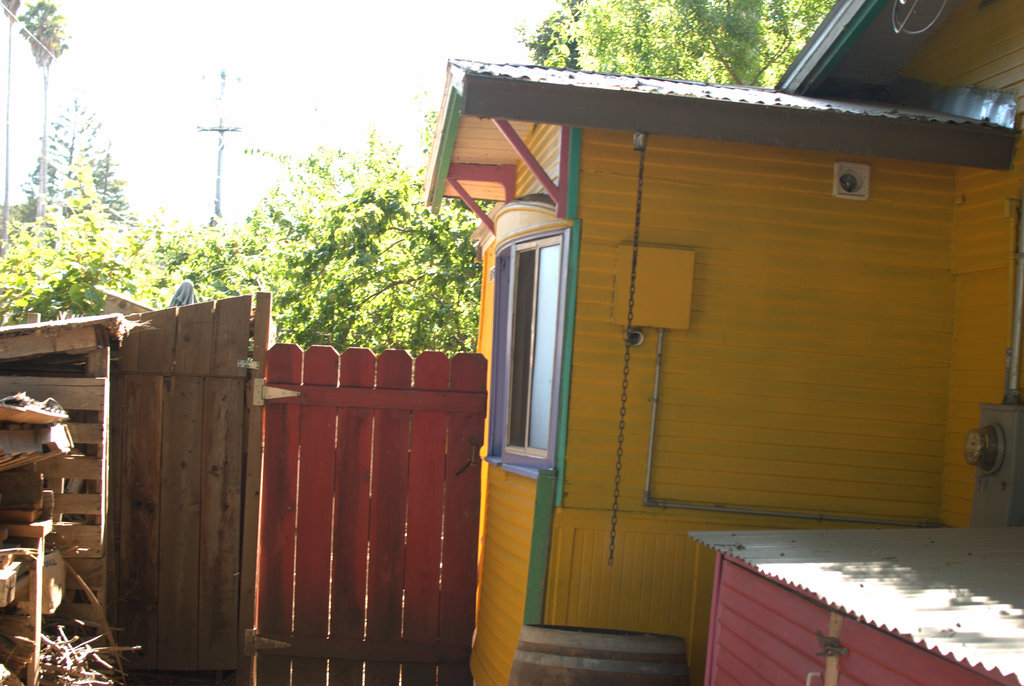Door: (230, 295, 480, 685)
